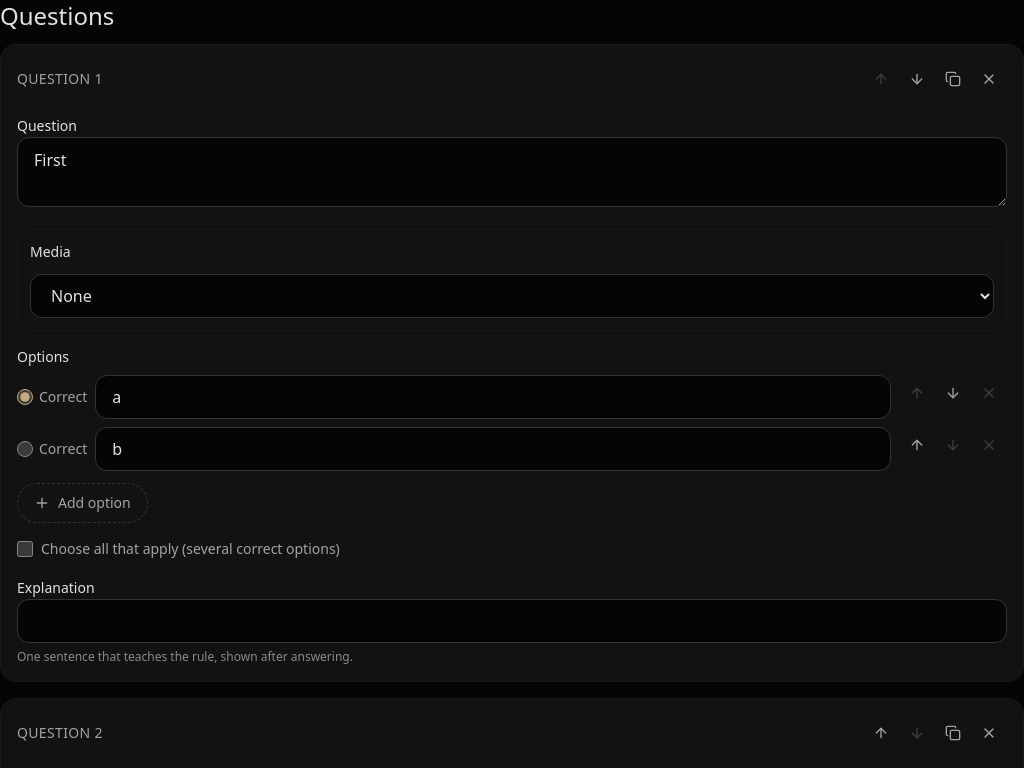
Test: QuizEditor › reorders with the keyboard-reachable buttons and keeps focus on the moved item
Step 1. Click the button named "Move Question 2 up" → (881, 733), box [863,715,899,751]
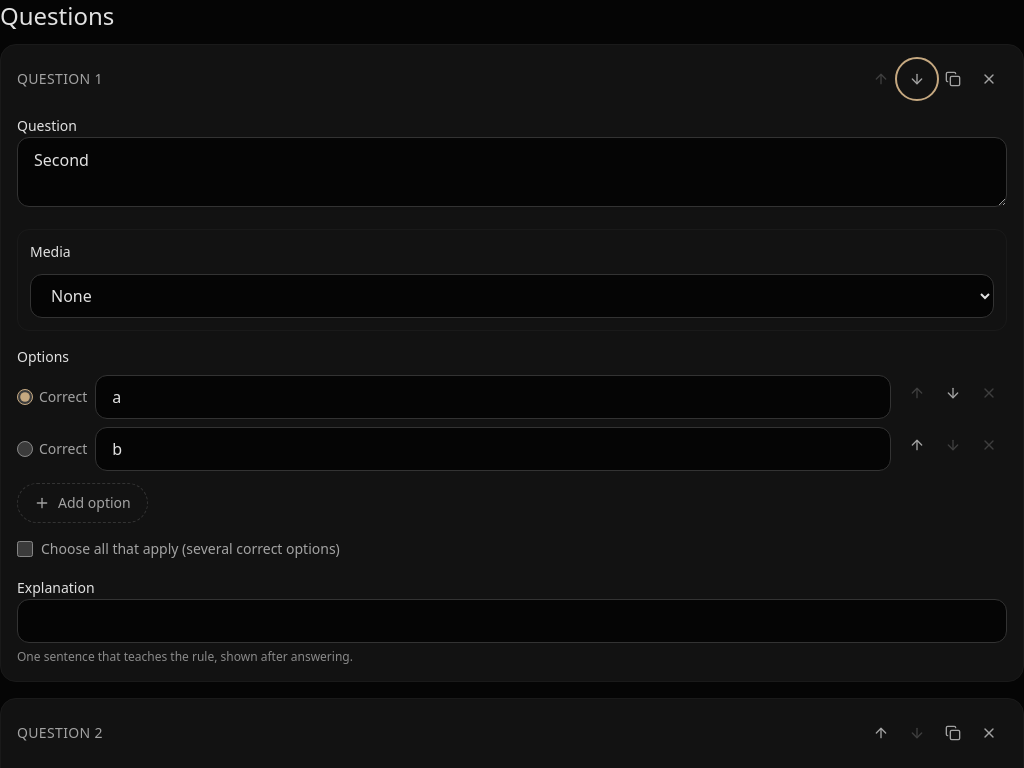
Step 2. Click the button named "Remove Question 1" → (989, 79), box [971,61,1007,97]
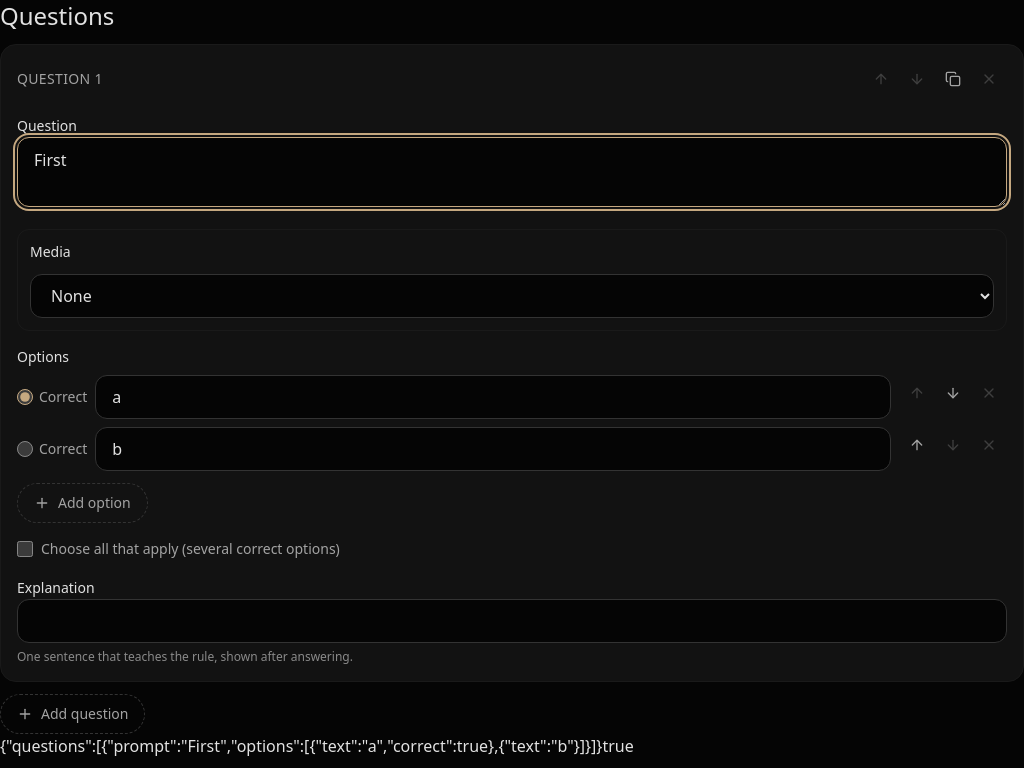
Expected: the button named "Remove Question 1" is disabled, [971,61,1007,97]
